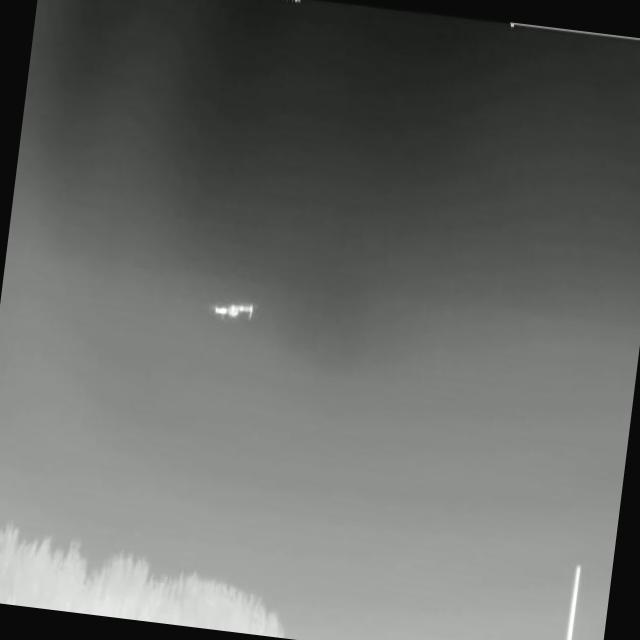DRONE: (205, 286, 266, 334)
